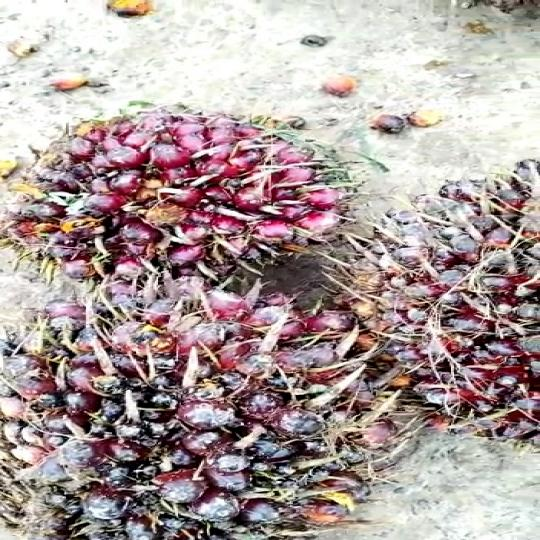kurang masak: (0, 287, 429, 540), (0, 88, 345, 284)
